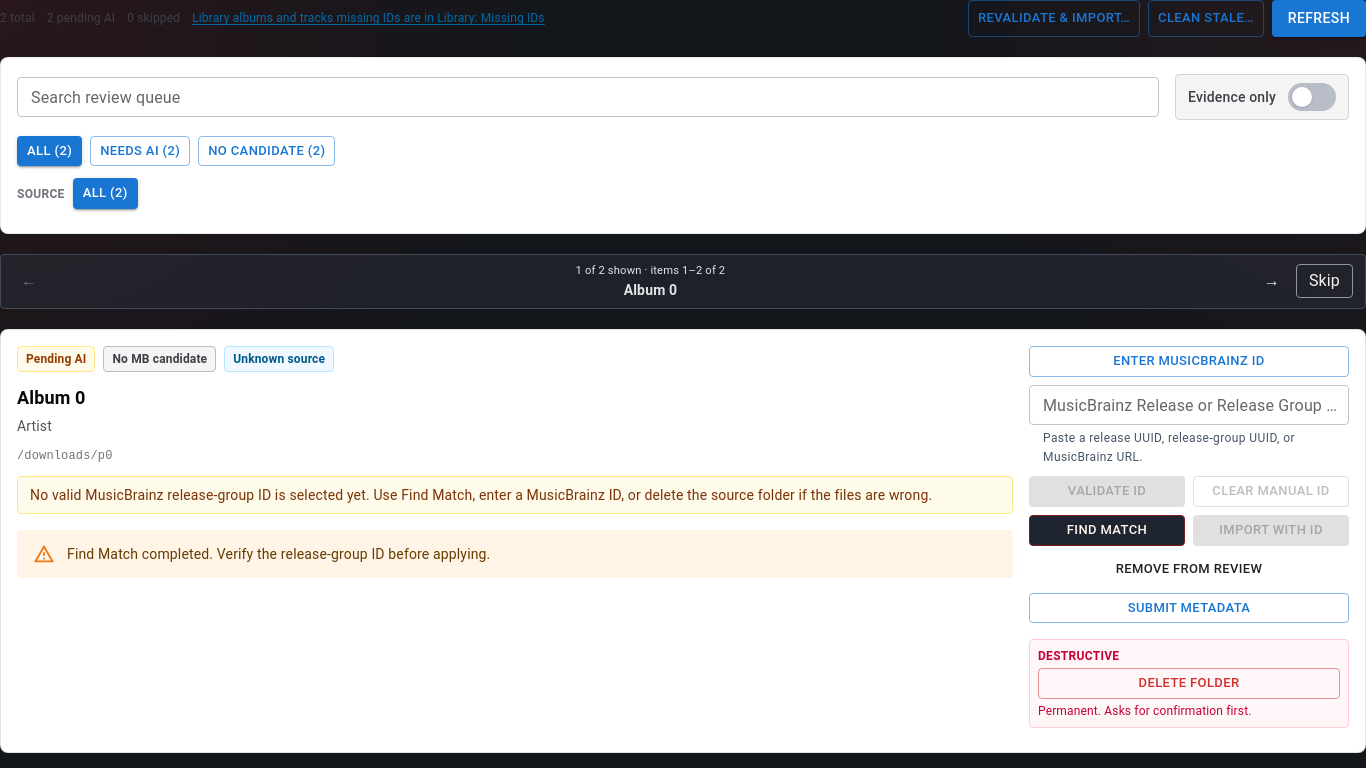
Test: Revalidate & Import: synchronous and job forms (#396 B1) › up to 25 items: reports the synchronous counts and polls no job
This screenshot has width=1366, height=768.
Step 1. Click the button "Revalidate & Import…" → [1054, 18], box [968,0,1140,36]
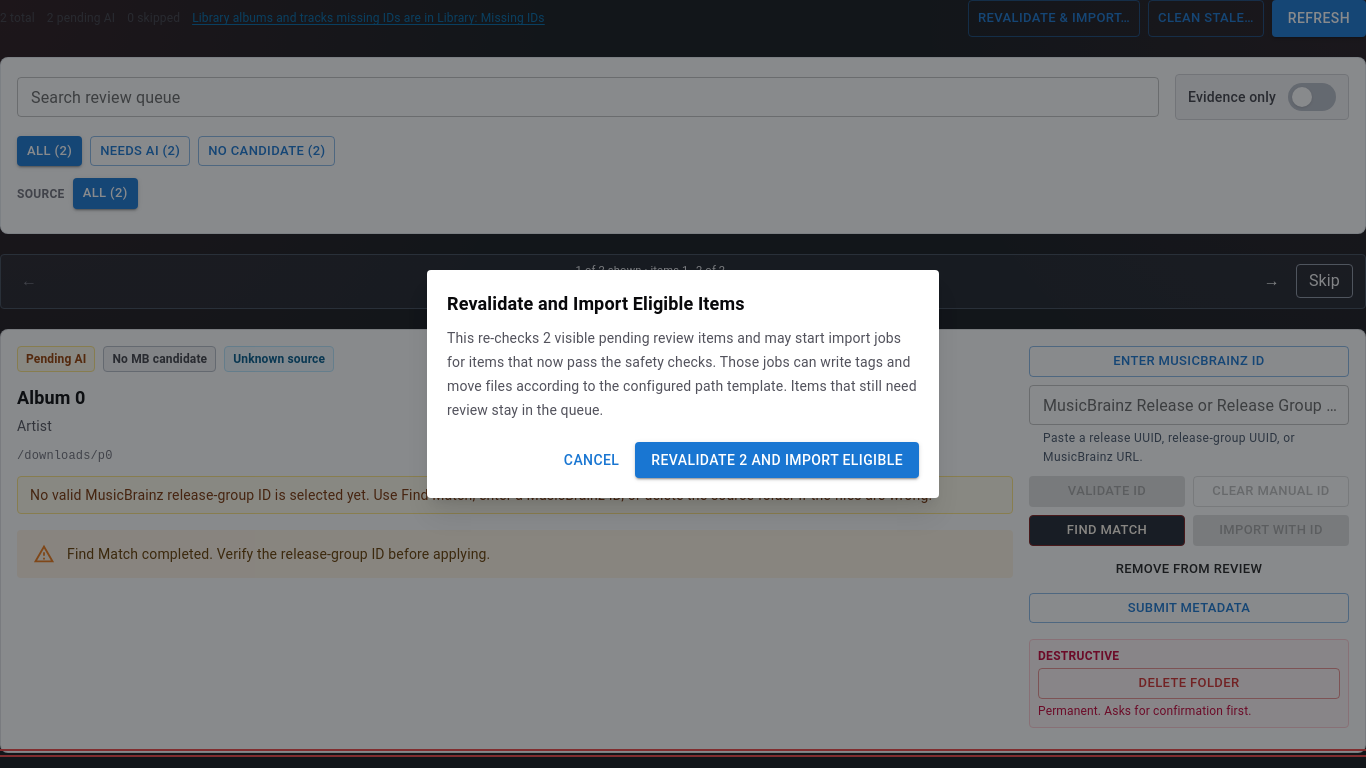
Step 2. Click the button "Revalidate 2 and import eligible" → [777, 460], box [635,442,919,478]
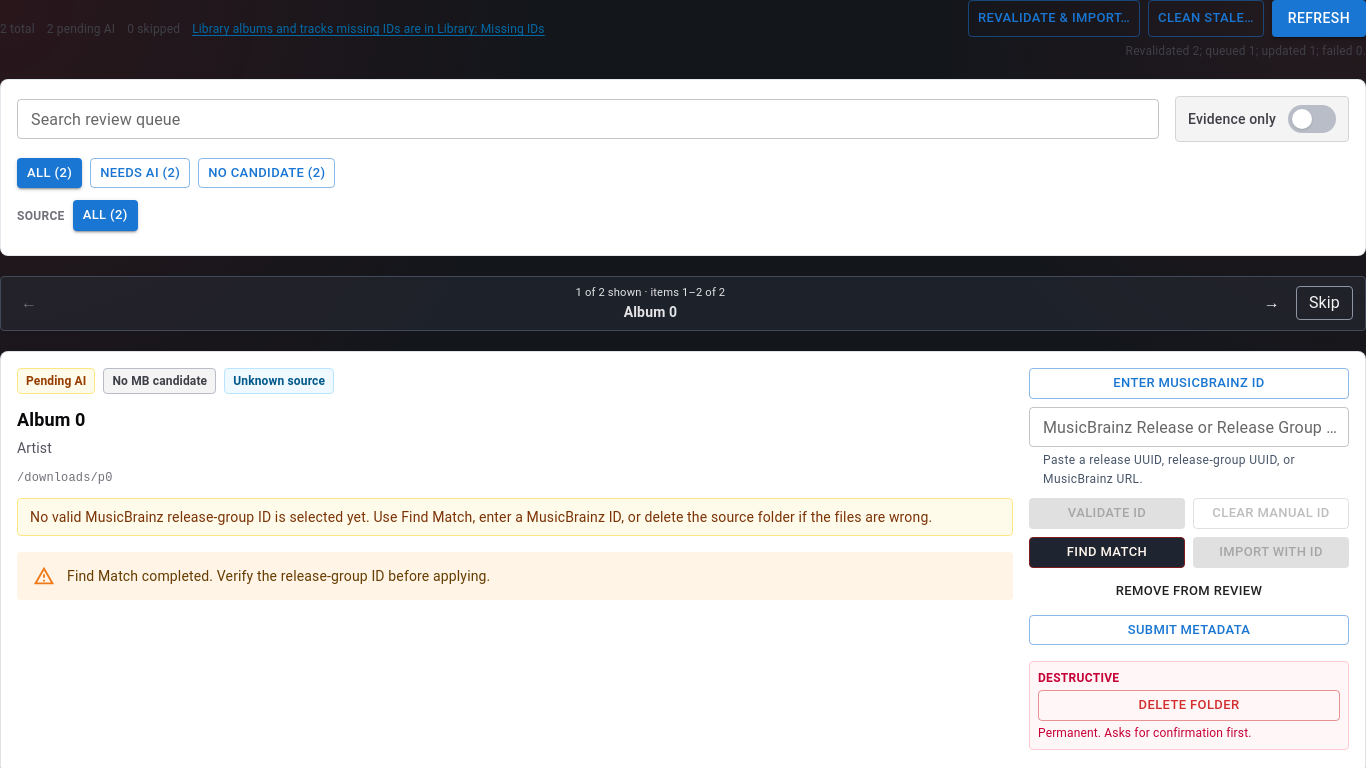
Check: the text "Revalidated 2; queued 1; updated 1; failed 0." is shown, box [1126,42,1365,58]
